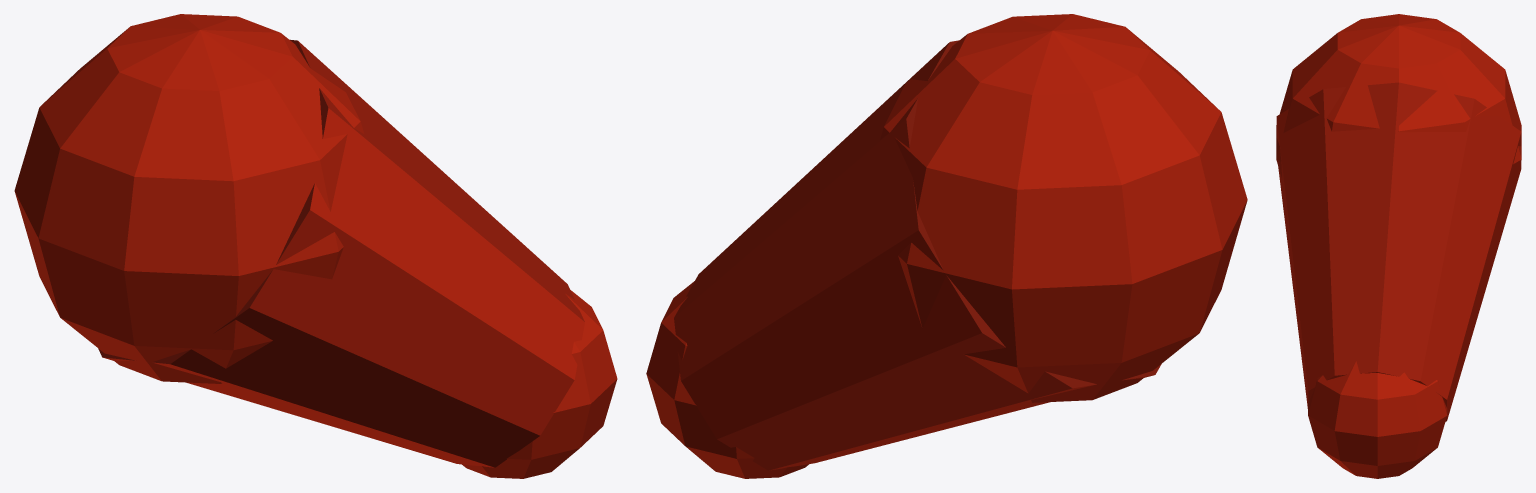
The model's file is SM_tyrannosaurus_hind_r_Upper.fbx.
3 renders of one model, left to right at view 1: azimuth 30°, elevation 25°; view 2: azimuth 150°, elevation 25°; view 3: azimuth 270°, elevation 25°, orthographic. The views are drawn at different scales.
Visible parts, largest first — view 1: SM_tyrannosaurus_hind_r_Upper export; view 2: SM_tyrannosaurus_hind_r_Upper export; view 3: SM_tyrannosaurus_hind_r_Upper export.
Boxes of the visible parts, left/top/right/bottom form: SM_tyrannosaurus_hind_r_Upper export: left=14, top=14, right=617, bottom=478; SM_tyrannosaurus_hind_r_Upper export: left=646, top=14, right=1247, bottom=478; SM_tyrannosaurus_hind_r_Upper export: left=1276, top=14, right=1521, bottom=478.
Bounding box in the file's own units: 228 × 127 × 199.
